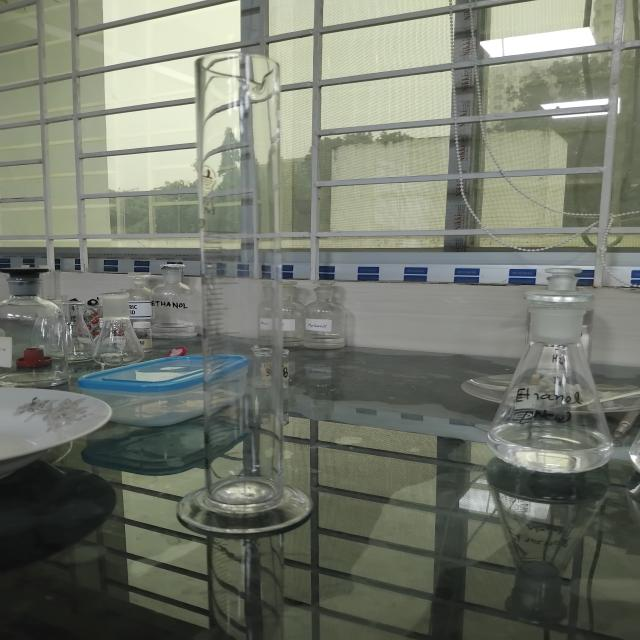Conical_Flask: (473, 269, 630, 501)
Measuring_Cylinder: (142, 22, 332, 558)
